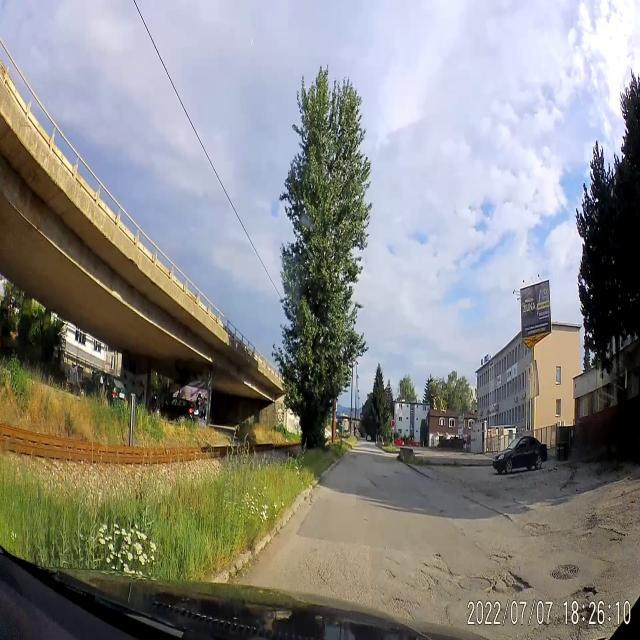Manhole: (456, 566, 494, 594), (542, 560, 584, 582)
Pothole: (558, 588, 608, 636), (498, 556, 530, 610), (578, 520, 628, 546), (430, 548, 452, 580), (516, 520, 550, 538)
